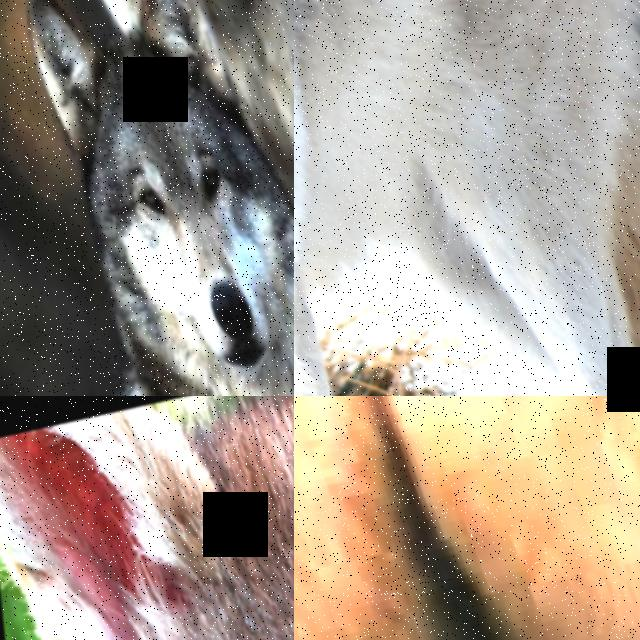dog: (294, 396, 640, 640), (294, 396, 578, 640)
wolf: (294, 0, 640, 396), (0, 0, 294, 396), (0, 0, 294, 322), (0, 396, 294, 640)
